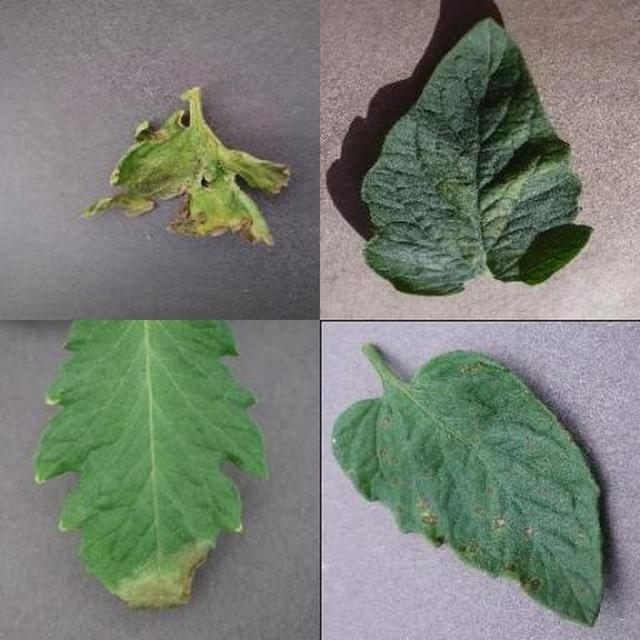Late Blight Leaf: (218, 203, 640, 640)
